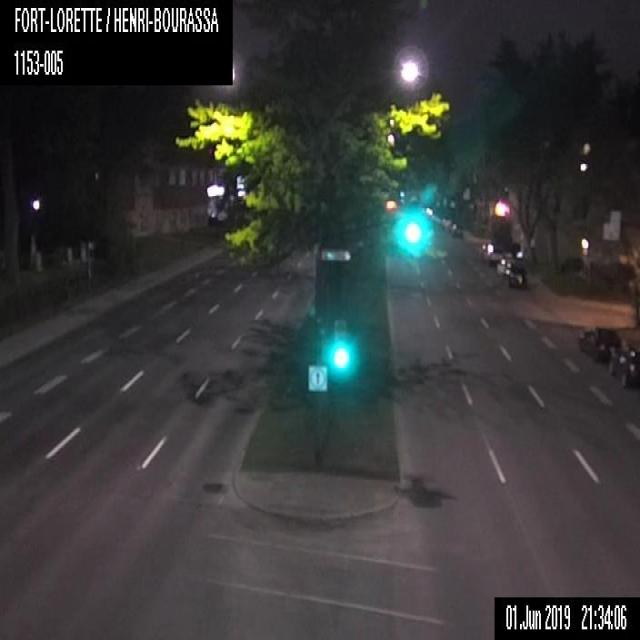vehicle: (578, 324, 620, 361), (608, 345, 639, 389), (496, 254, 528, 289), (478, 240, 500, 264), (450, 222, 463, 236)
